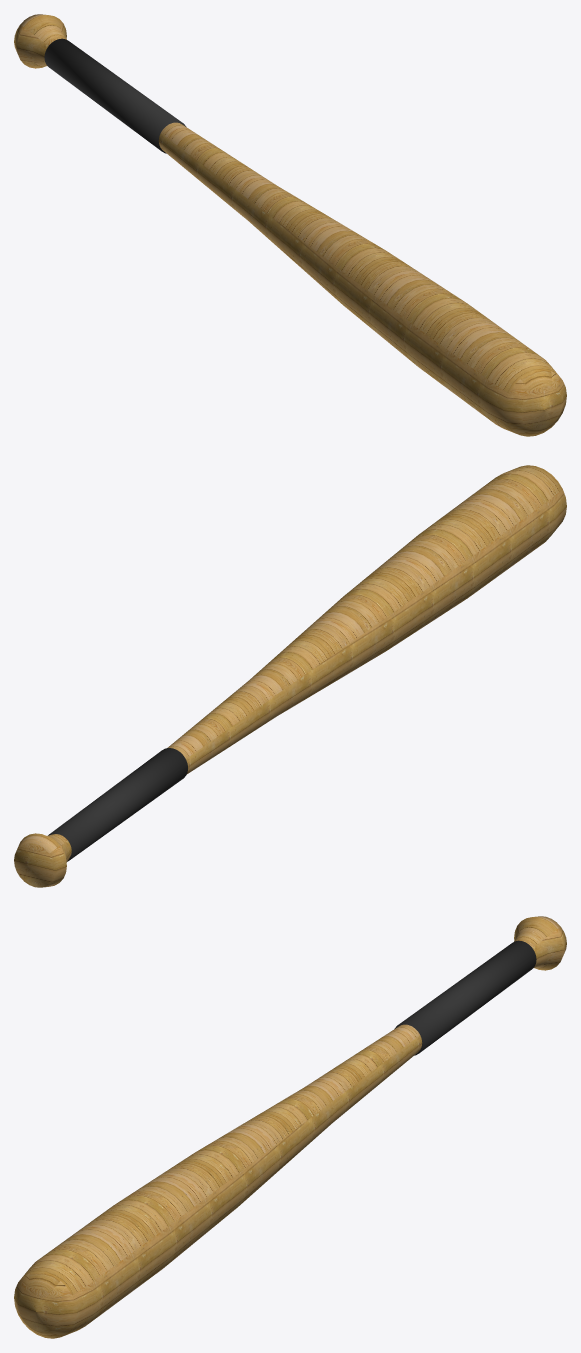
File: bat.glb
3 renders of one model, top to bottom at view 1: azimuth 30°, elevation 25°; view 2: azimuth 150°, elevation 25°; view 3: azimuth 330°, elevation 25°, orthographic.
Visible parts, largest first — view 1: bat; view 2: bat; view 3: bat.
Part boxes in pixels (<box>): bat: <box>14,14,566,436</box>; bat: <box>14,465,566,887</box>; bat: <box>14,916,566,1338</box>.
Size of the model in its own units: 0.068 by 0.068 by 0.85.
Materials: 2 (1 with a texture image).
